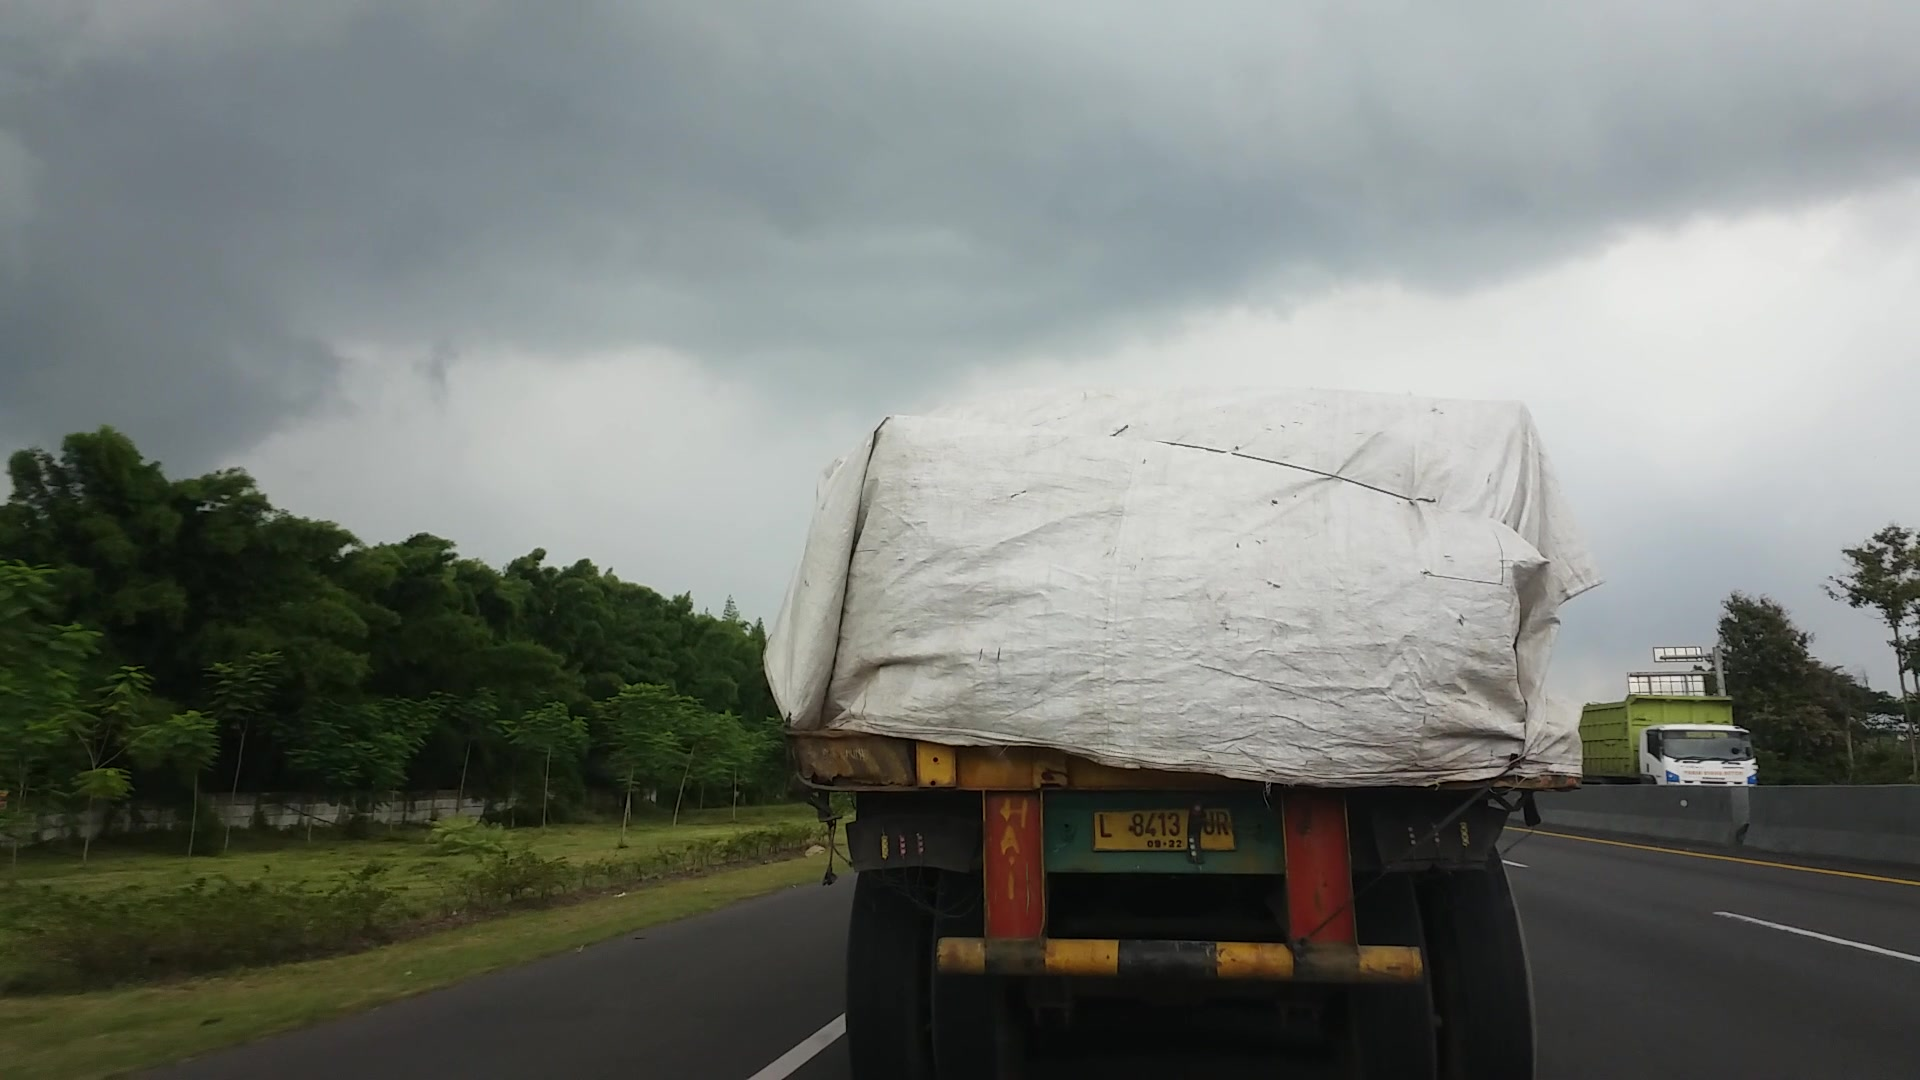plate_positive: (1092, 808, 1234, 852)
